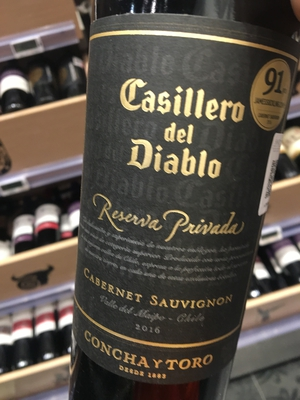casillero del diablo reserva privada cabernet sauvignon: (70, 4, 290, 400)
